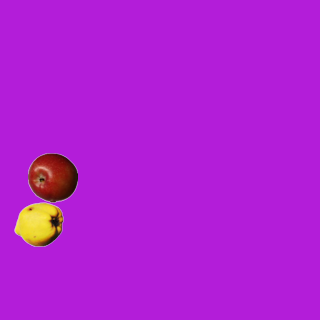Apple Braeburn: (27, 152, 77, 202)
Quince: (13, 199, 63, 249)
